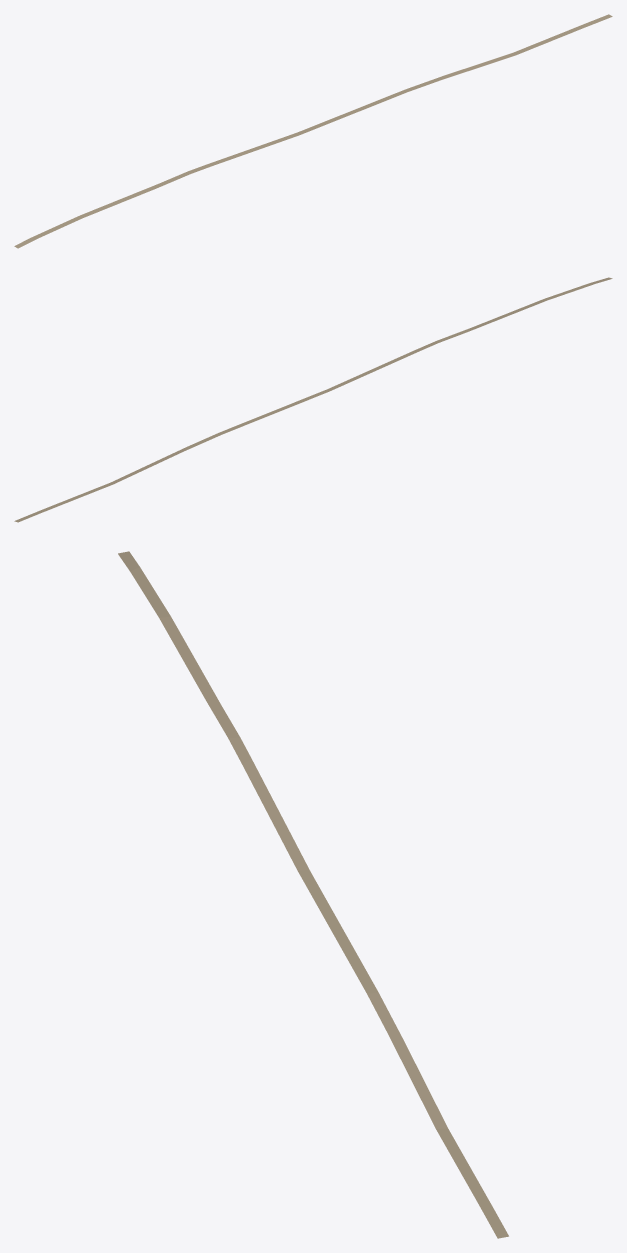
The model's file is farm_-22_-21_track.glb.
3 views of the same model, one above another, from view 1: azimuth 30°, elevation 25°; view 2: azimuth 210°, elevation 25°; view 3: azimuth 270°, elevation 25° (orthographic). The views are drawn at different scales.
Visible parts, largest first — view 1: geometry_0; view 2: geometry_0; view 3: geometry_0.
Boxes of the visible parts, left/top/right/bottom form: geometry_0: left=14, top=14, right=612, bottom=248; geometry_0: left=14, top=277, right=612, bottom=522; geometry_0: left=118, top=551, right=508, bottom=1238.
Bounding box in the file's own units: 440 × 7.17 × 108.
